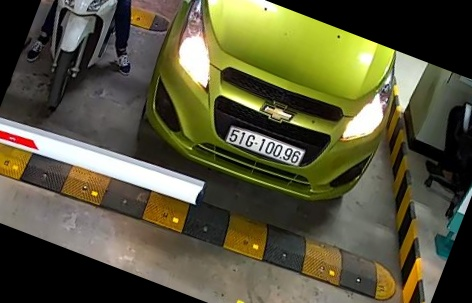plate: (223, 124, 307, 171)
